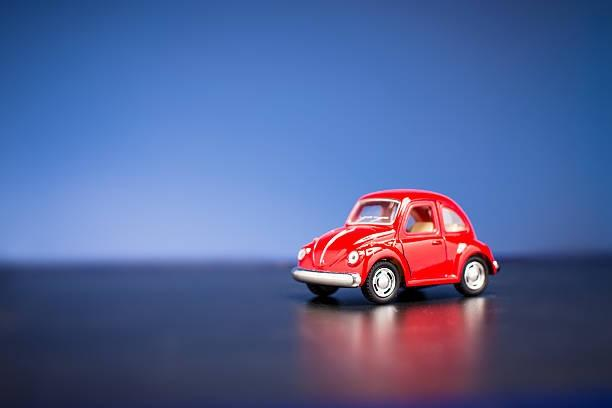car: (298, 188, 501, 309)
